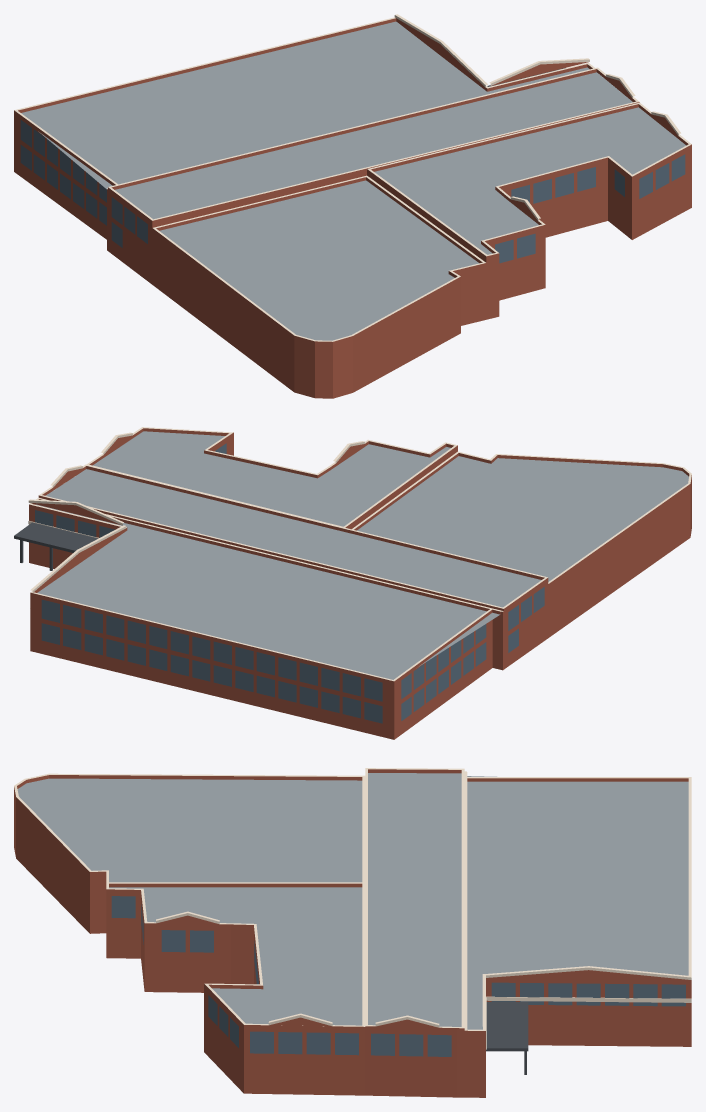
The model's file is clt-plaza-building.glb.
3 renders of one model, top to bottom at view 1: azimuth 30°, elevation 25°; view 2: azimuth 150°, elevation 25°; view 3: azimuth 270°, elevation 25°, orthographic. The views are drawn at different scales.
Parts seen in each view (by area): view 1: Plaza Building; view 2: Plaza Building; view 3: Plaza Building.
Part boxes in pixels (x1,y1,x2,y2): Plaza Building: (14,14,691,398); Plaza Building: (14,427,691,739); Plaza Building: (14,768,691,1097).
Size of the model in its own units: 87.5 by 12.7 by 95.55.
